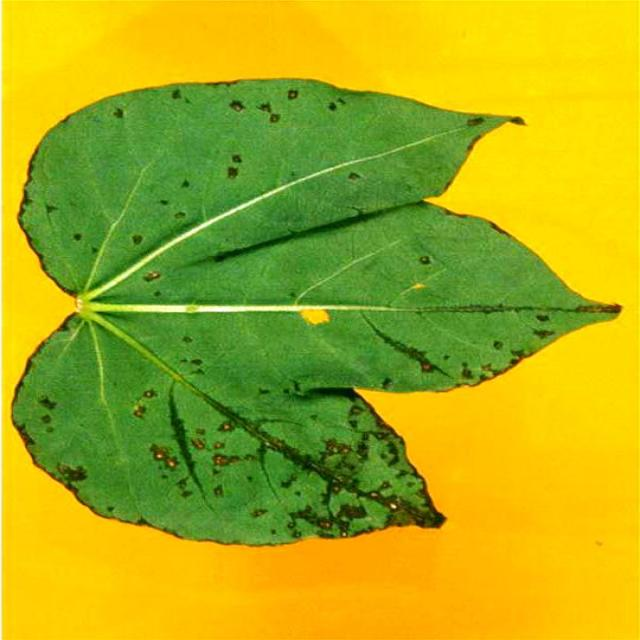Bacterial Blight: (108, 368, 444, 549)
